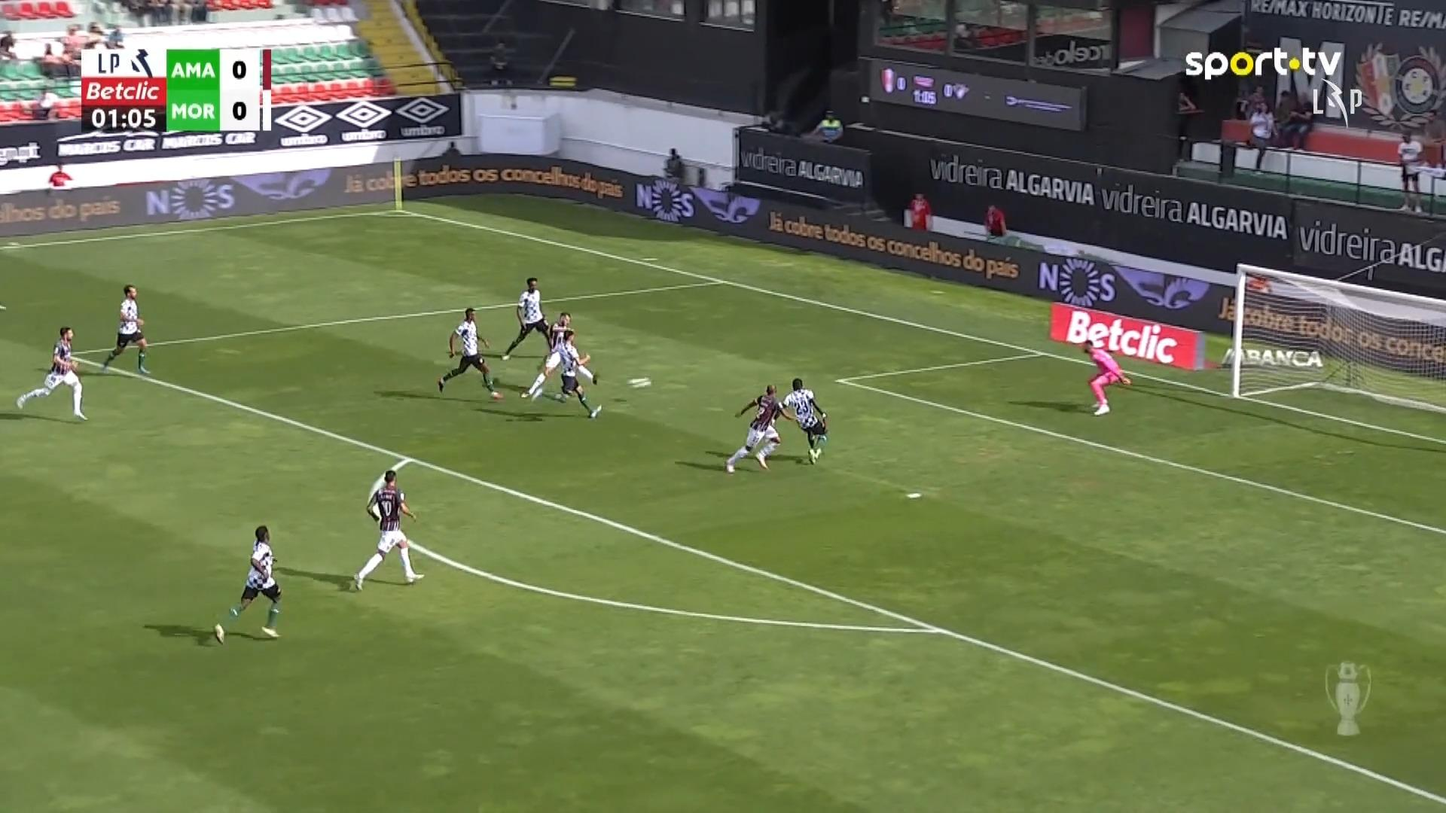ball: (629, 376, 652, 389)
goalkeeper: (1082, 337, 1131, 415)
player: (351, 468, 425, 591), (212, 523, 282, 644), (520, 328, 602, 419), (15, 325, 88, 421), (724, 382, 795, 473), (436, 306, 502, 400), (500, 276, 556, 361), (101, 284, 151, 374), (780, 376, 828, 464), (549, 311, 599, 393), (1396, 129, 1426, 214)
